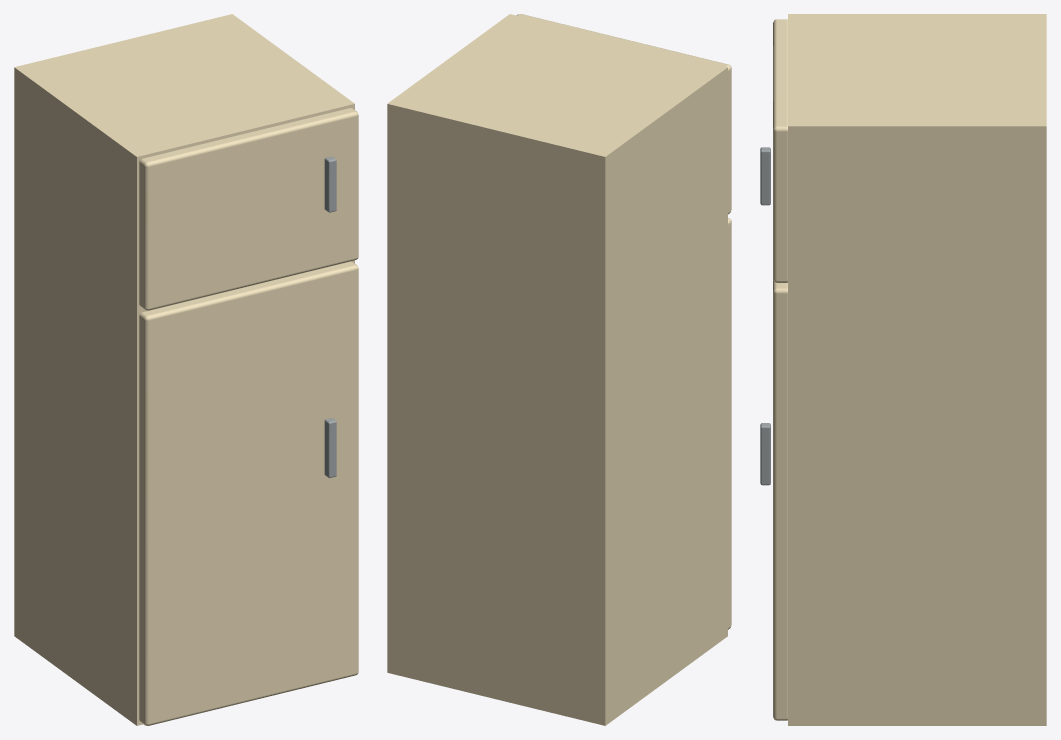
The model's file is fridge_fjord-a5e61077c08e.glb.
The picture shows the model from 3 angles, left to right: view 1: azimuth 30°, elevation 25°; view 2: azimuth 150°, elevation 25°; view 3: azimuth 270°, elevation 25°; orthographic projection. The views are drawn at different scales.
Visible parts, largest first — view 1: surface_ivory, surface_steel; view 2: surface_ivory; view 3: surface_ivory, surface_steel.
Part boxes in pixels (x1,y1,x2,y2): surface_ivory: (14, 14, 358, 725); surface_steel: (324, 156, 336, 477); surface_ivory: (387, 14, 731, 725); surface_ivory: (773, 14, 1046, 725); surface_steel: (760, 147, 770, 485).
Size of the model in its own units: 0.61 by 1.52 by 0.657.
